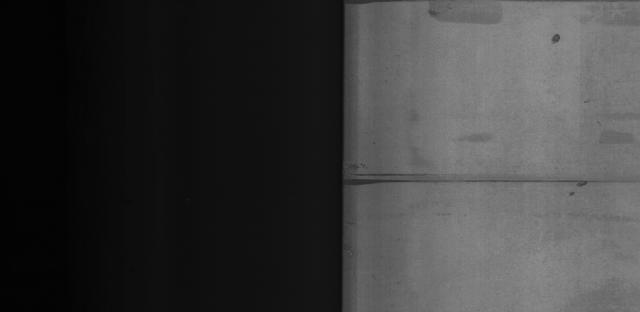crease: (345, 161, 618, 196)
